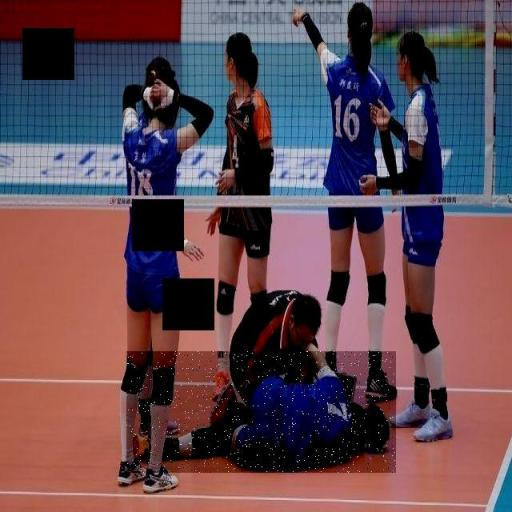Fall: (126, 351, 396, 473)
